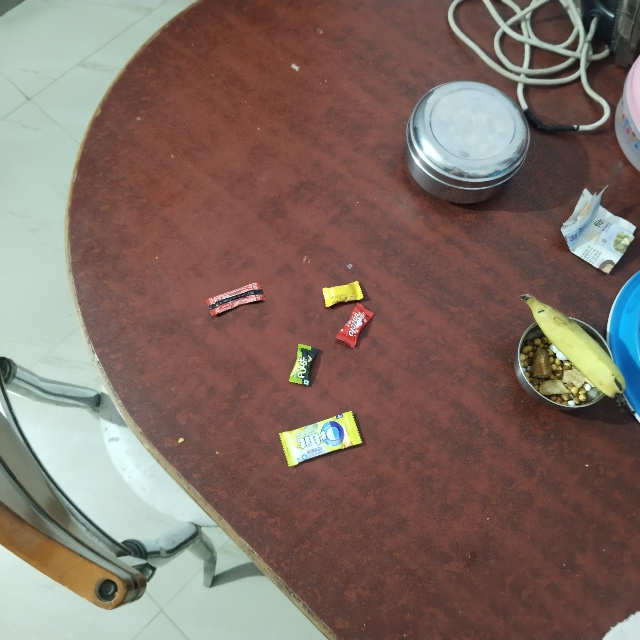Alpenlibe Creamfills: (318, 290, 362, 311)
Mazelo: (355, 299, 379, 346)
Nescafe Coffee: (202, 297, 264, 319)
Orbit: (276, 433, 357, 468)
Pulse: (299, 342, 323, 384)
